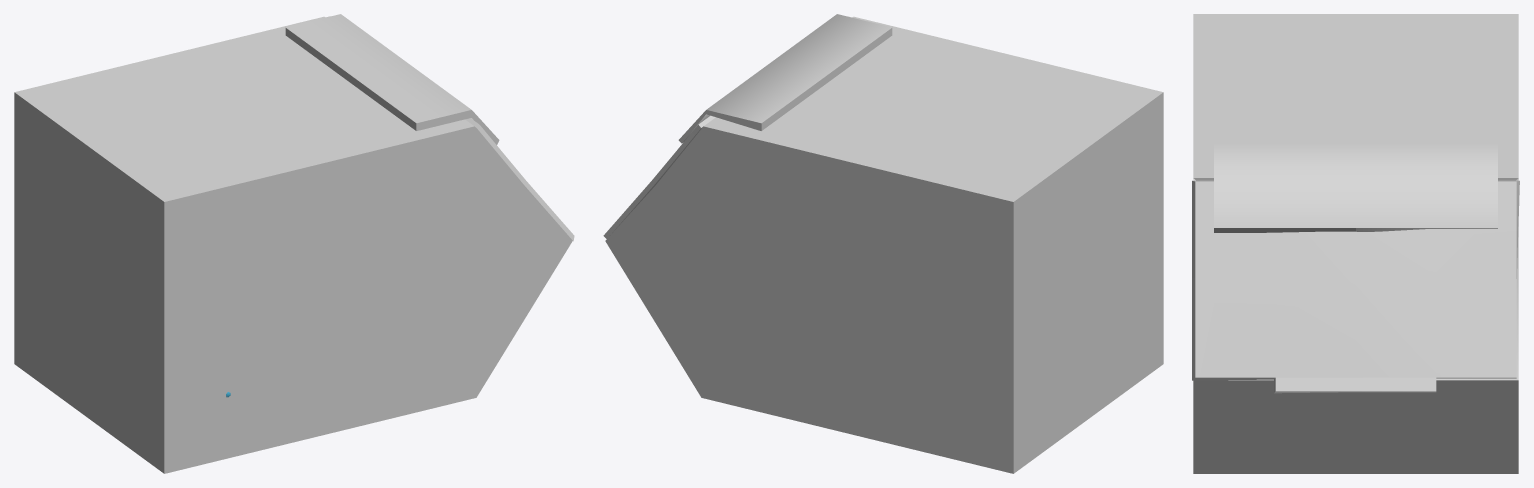
Rendered from Item_GummyWormVar_6.fbx.
3 views of the same model, side by side, from view 1: azimuth 30°, elevation 25°; view 2: azimuth 150°, elevation 25°; view 3: azimuth 270°, elevation 25° (orthographic). The views are drawn at different scales.
Visible parts, largest first — view 1: Item_GummyWorm_6; view 2: Item_GummyWorm_6; view 3: Item_GummyWorm_6.
Boxes of the visible parts, bbox=[...] form: Item_GummyWorm_6: bbox=[14, 14, 574, 473]; Item_GummyWorm_6: bbox=[603, 14, 1163, 473]; Item_GummyWorm_6: bbox=[1192, 14, 1519, 473].
Size of the model in its own units: 73.54 by 47.02 by 46.06.
Materials: 2 (1 with a texture image).
